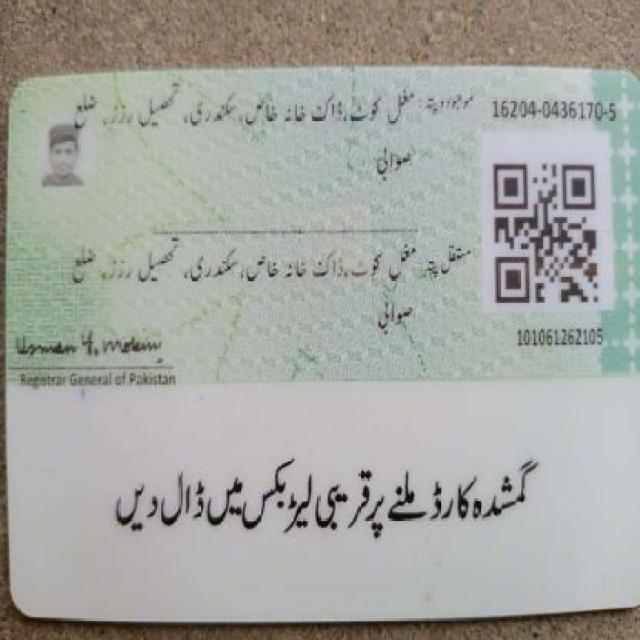Back: (3, 68, 637, 608)
